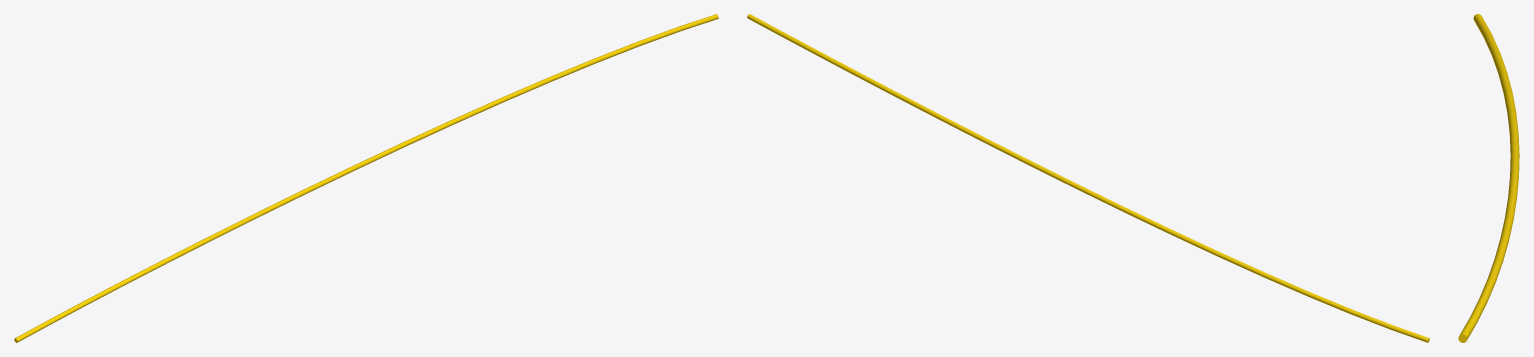
The model's file is Event_421115418_track_65.fbx.
The picture shows the model from 3 angles, left to right: view 1: azimuth 30°, elevation 25°; view 2: azimuth 150°, elevation 25°; view 3: azimuth 270°, elevation 25°; orthographic projection. The views are drawn at different scales.
Parts seen in each view (by area): view 1: Model; view 2: Model; view 3: Model.
Boxes of the visible parts, box(x1,y1,x2,y2) form: Model: box(14, 14, 718, 342); Model: box(747, 14, 1429, 342); Model: box(1458, 14, 1519, 342).
Bounding box in the file's own units: 6.28 × 1.39 × 0.2722.
